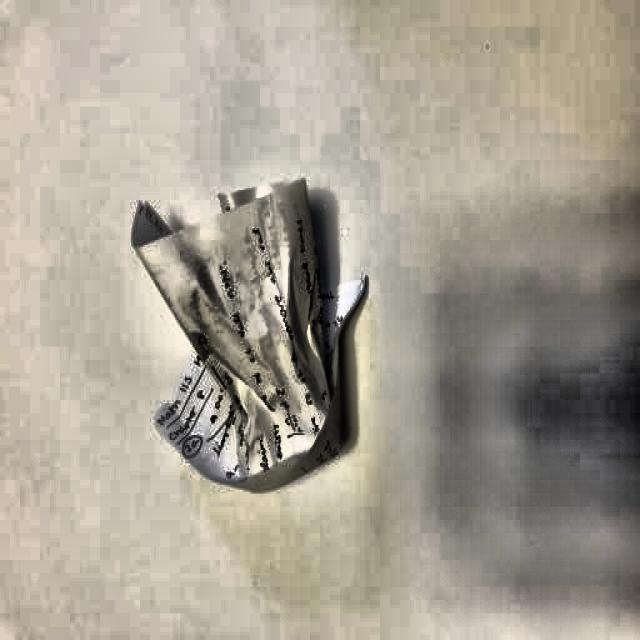paper: (127, 182, 376, 484)
